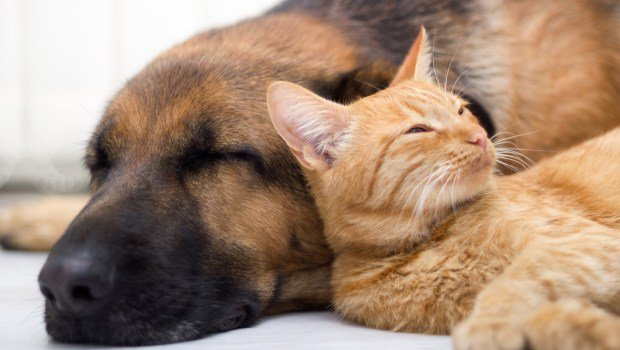cat: (262, 17, 620, 327)
dog: (36, 6, 365, 350)
